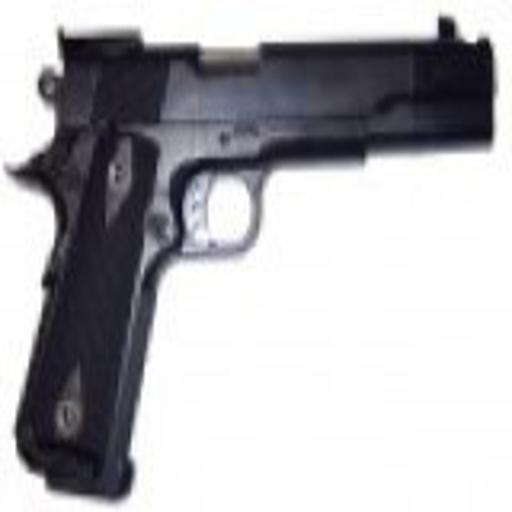Handgun: (8, 16, 491, 502)
